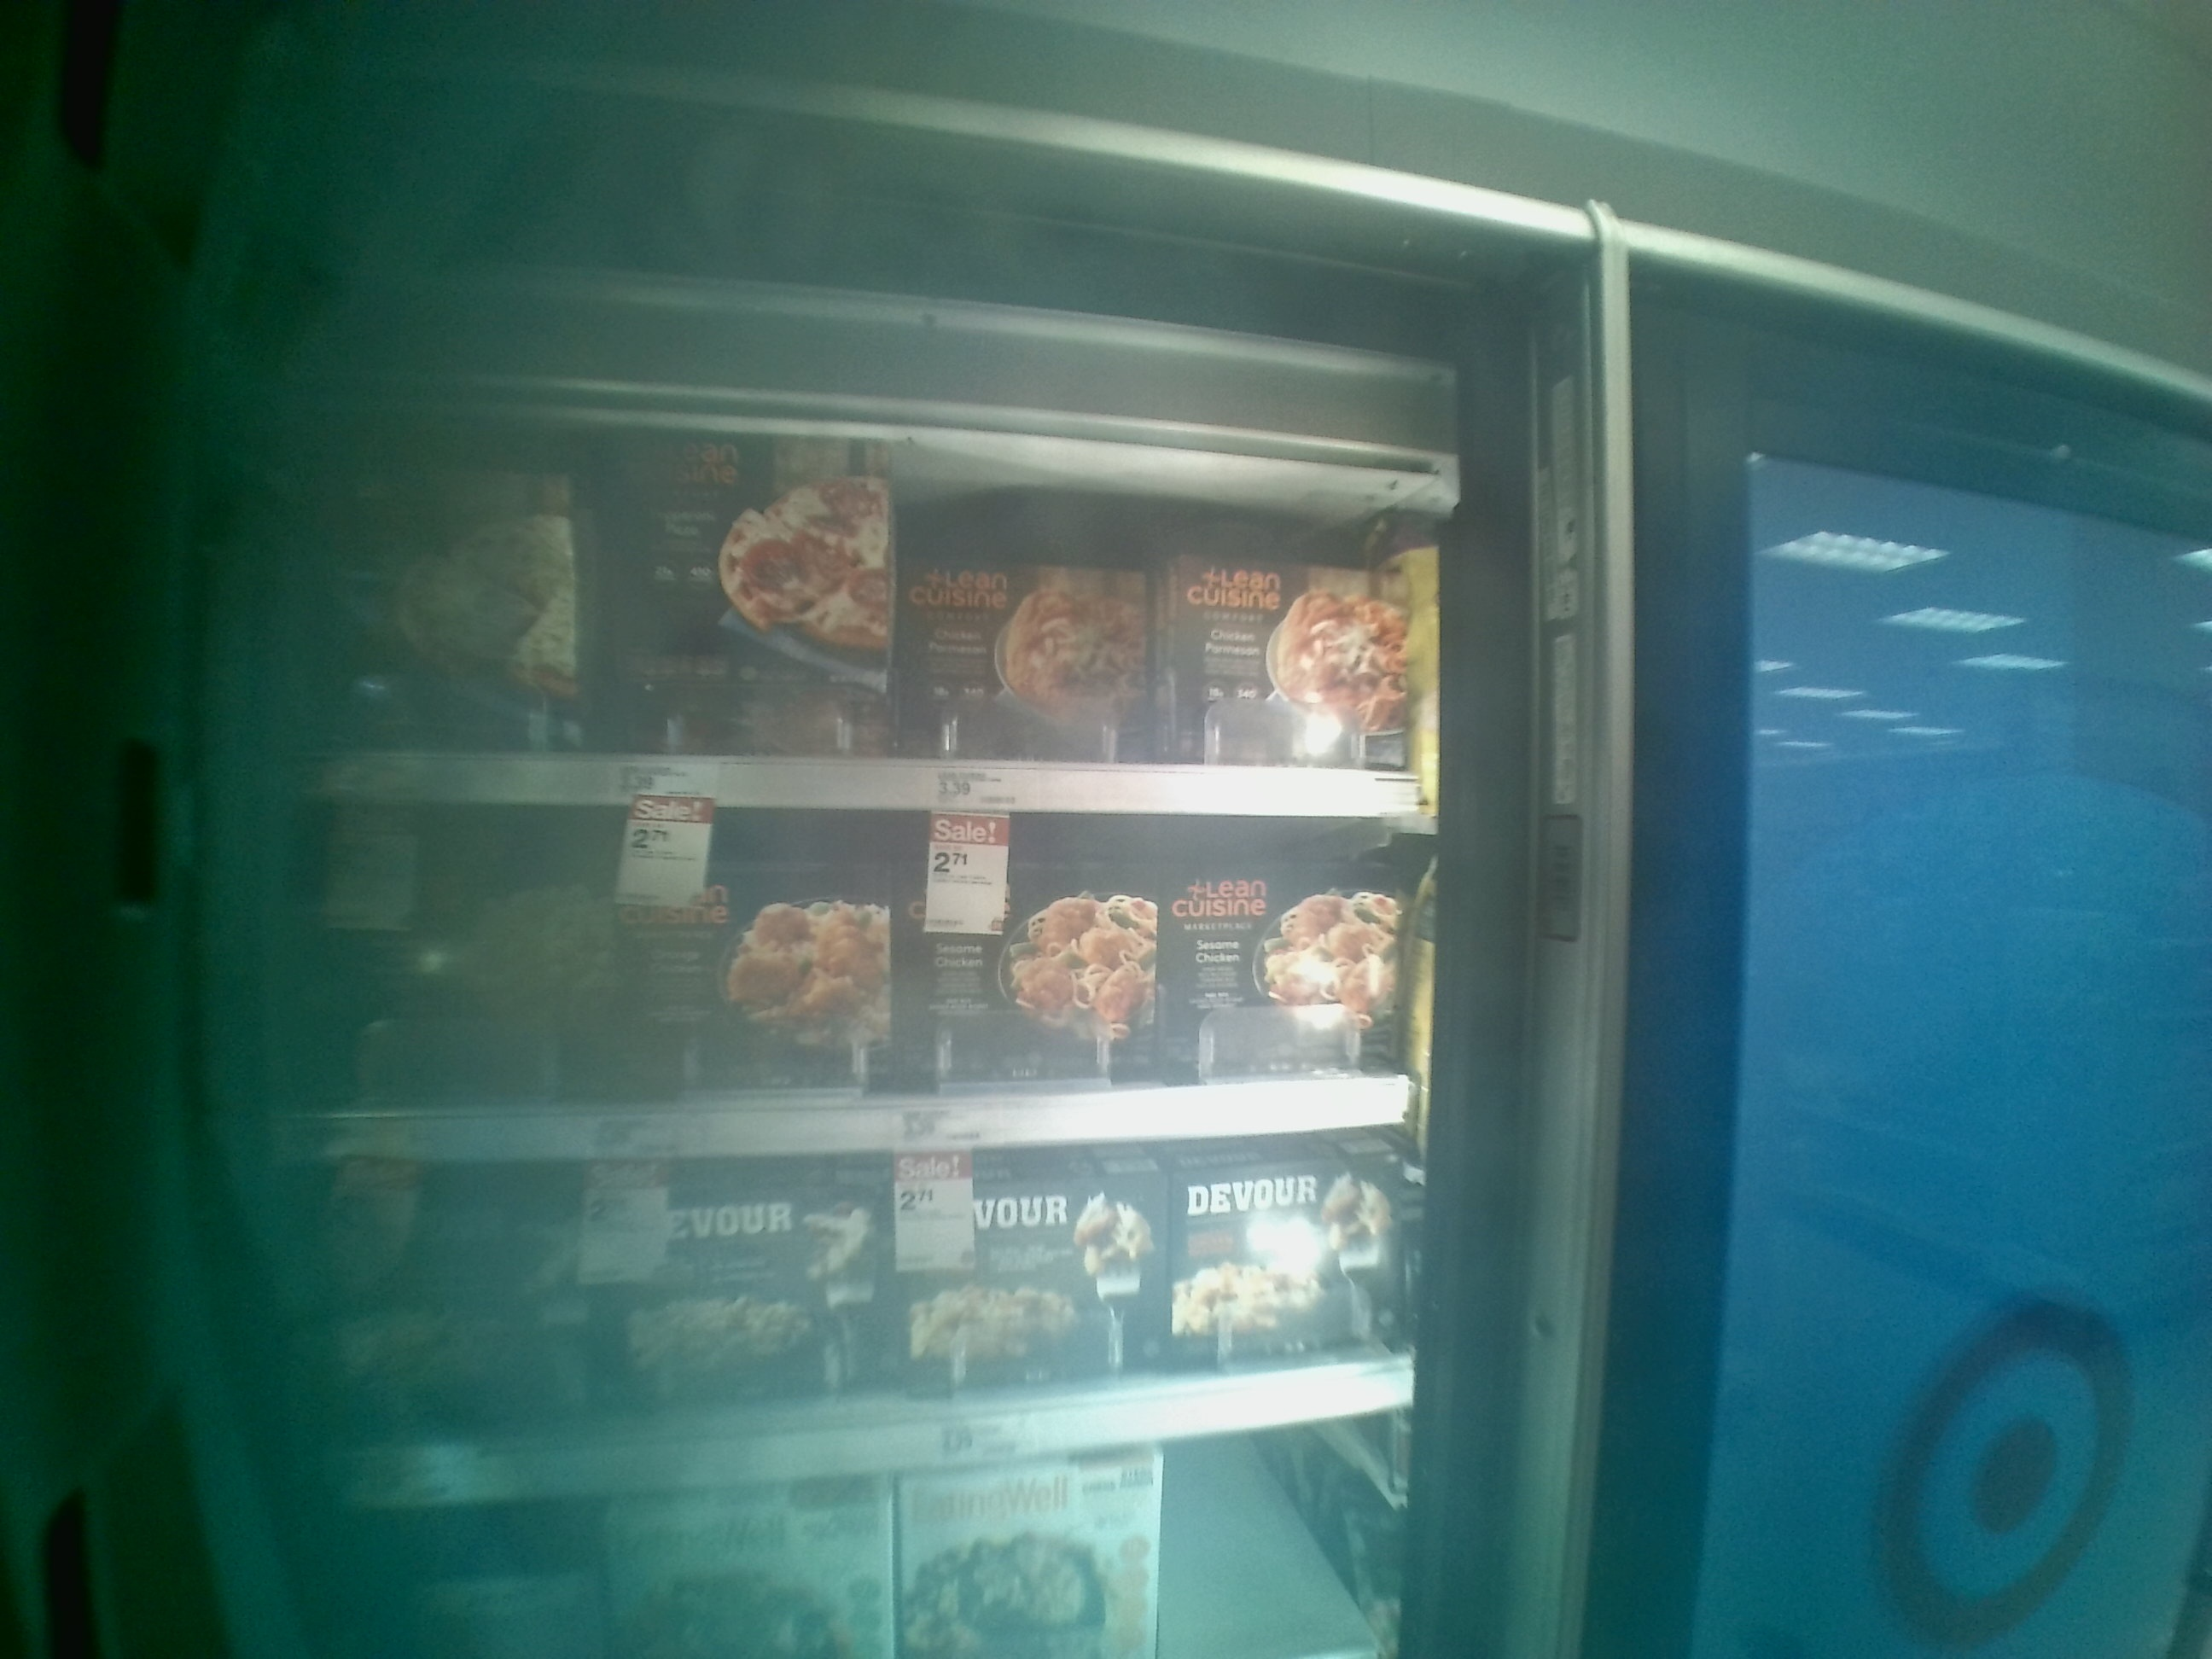shelf: (251, 399, 1435, 802), (254, 1122, 1420, 1502), (258, 800, 1440, 1161)
